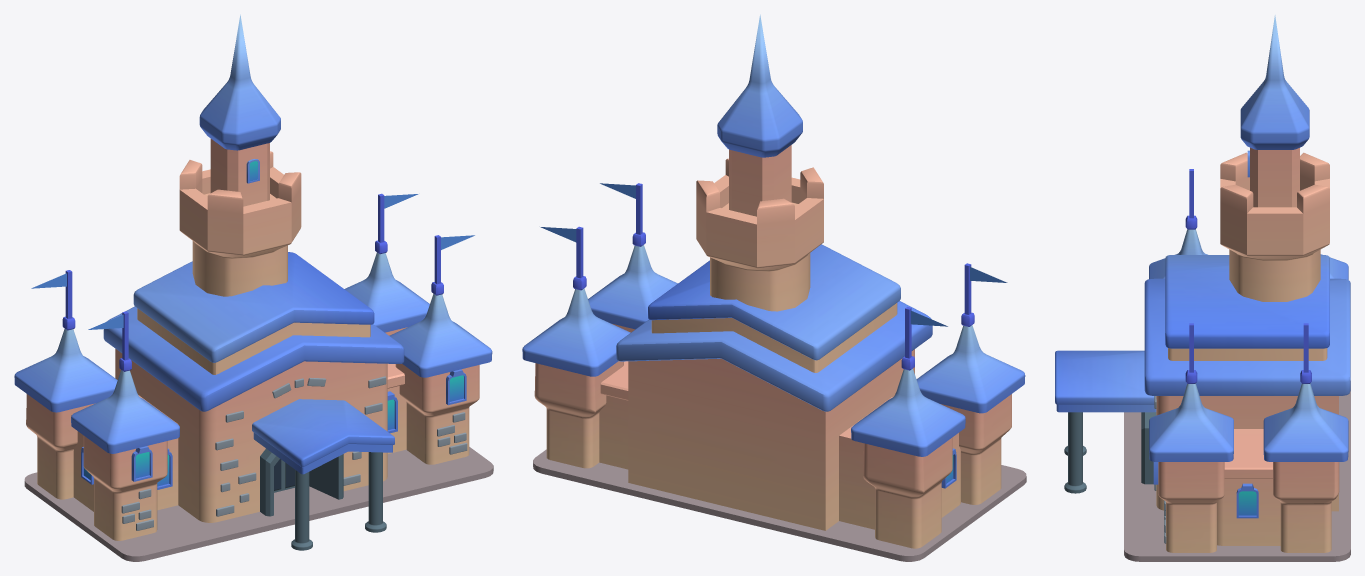
Rendered from Townhall.fbx.
3 renders of one model, left to right at view 1: azimuth 30°, elevation 25°; view 2: azimuth 150°, elevation 25°; view 3: azimuth 270°, elevation 25°, orthographic. The views are drawn at different scales.
Visible parts, largest first — view 1: Townhall; view 2: Townhall; view 3: Townhall.
Boxes of the visible parts, box(x1,y1,x2,y2) form: Townhall: box(14, 14, 493, 561); Townhall: box(522, 14, 1026, 561); Townhall: box(1055, 15, 1350, 561).
Bounding box in the file's own units: 24.94 × 27.63 × 16.22.
1 material, 1 textured.
